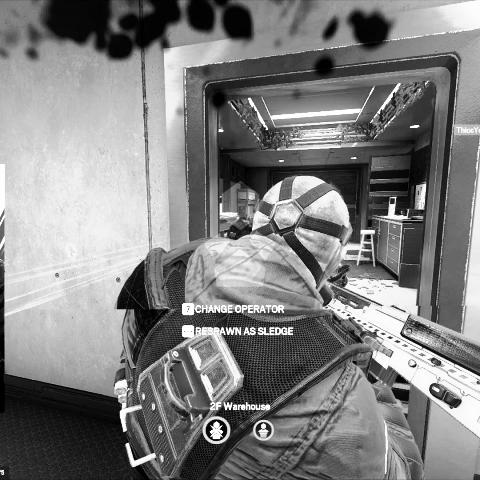Character: (111, 167, 428, 480)
Head: (251, 173, 352, 285)
